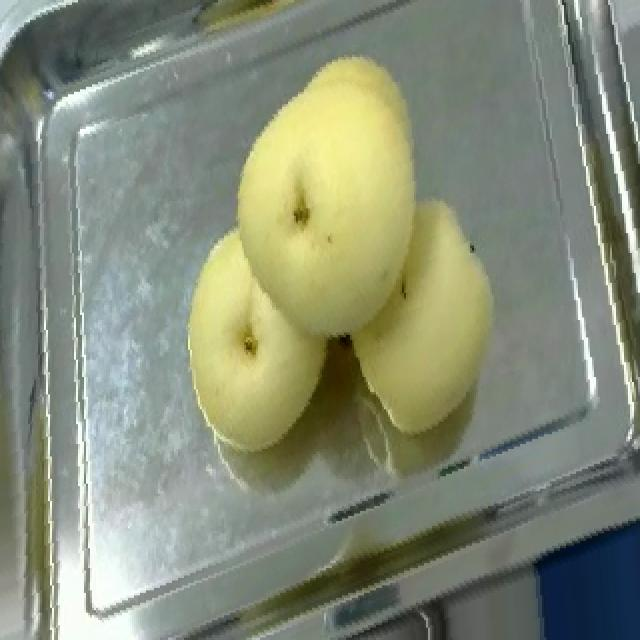Fruit: (196, 30, 454, 350), (324, 169, 528, 459), (166, 221, 348, 471)
